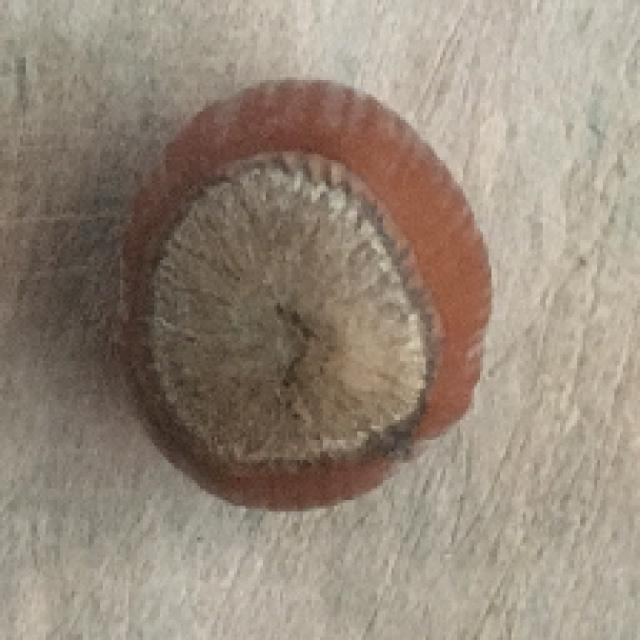qualityHazelnut: (121, 77, 498, 515)
